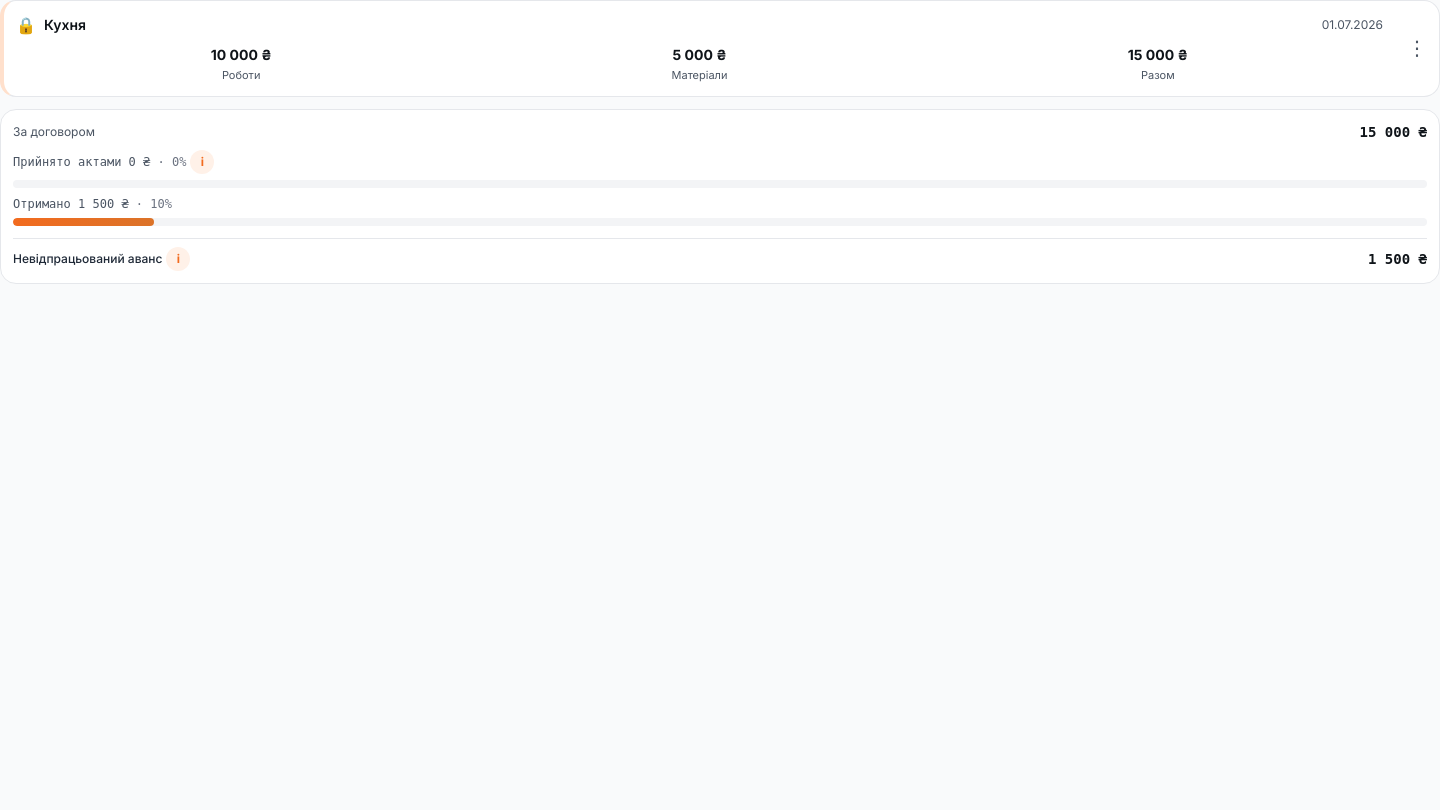
Test case: ObjectEconomySection › «Згенерувати акт» is hidden while an act is still open
This screenshot has width=1440, height=810.
Expected: the text "Кухня" is shown, x1=44 y1=16 x2=86 y2=33
Note: Wait for the acts query to land so the block is computed, then open the menu.
Step 1. Click the button named "Дії" → (1417,48), box x1=1395 y1=1 x2=1439 y2=96
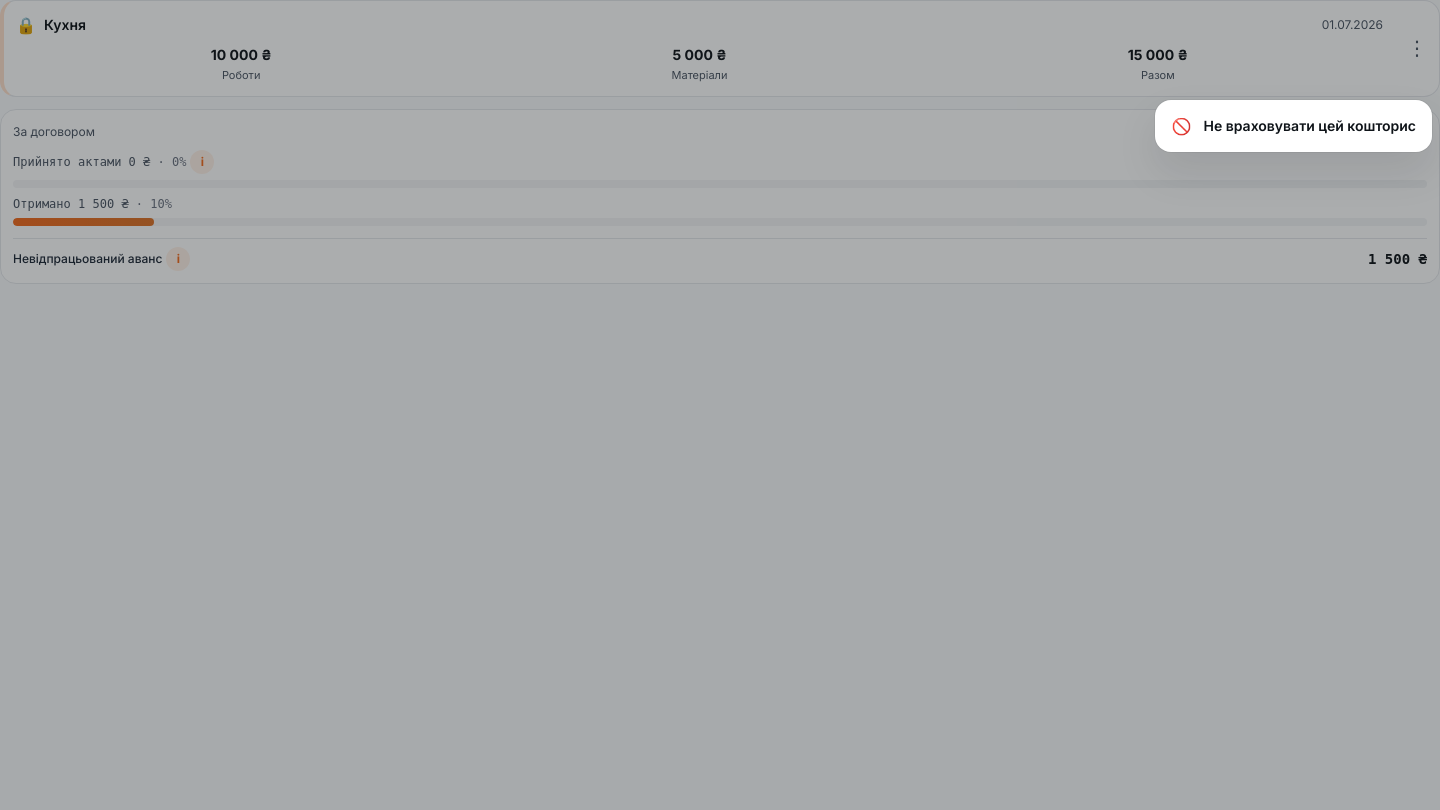
Expected: the text "Не враховувати цей кошторис" is shown, x1=1204 y1=116 x2=1416 y2=136
